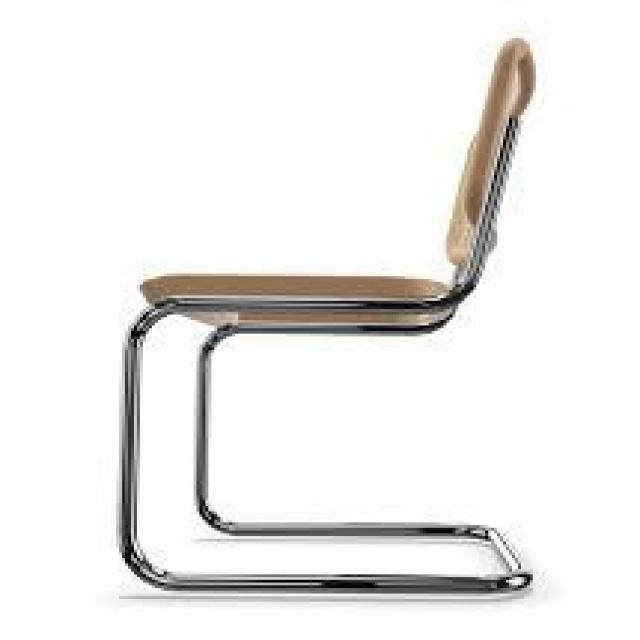chair: (71, 22, 551, 604)
